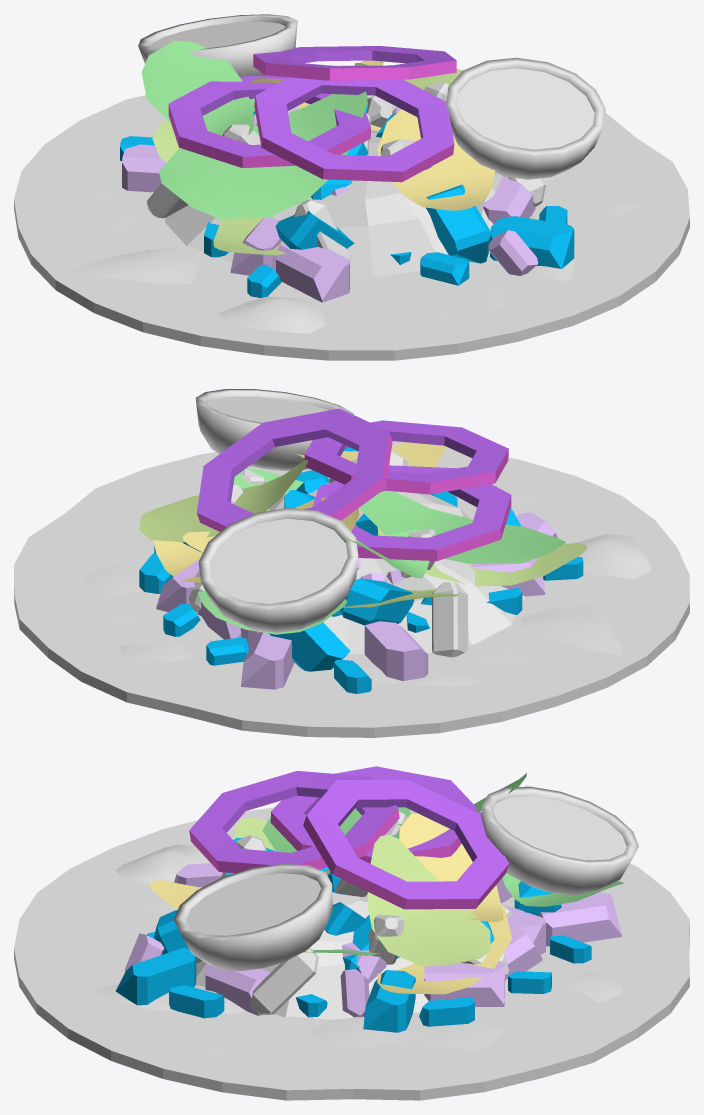
File: TortillaAssembled_V3.fbx
The picture shows the model from 3 angles, top to bottom: view 1: azimuth 30°, elevation 25°; view 2: azimuth 150°, elevation 25°; view 3: azimuth 270°, elevation 25°; orthographic projection.
Parts seen in each view (by area): view 1: Wrap, Salad.003, Circle.004, Shaving3, Cylinder.001, Tortilla_Charred, Shaving2, Circle.001, Skin, Circle.002, Liquid, Cube (+5 smaller); view 2: Wrap, Salad.003, Shaving0, Tortilla_Charred, Circle.002, Circle.004, Skin.001, Cylinder.001, Circle.001, Liquid.002, Liquid.003, Skin (+7 smaller); view 3: Wrap, Salad.003, Circle.002, Shaving4, Tortilla_Charred, Circle.004, Shaving3, Skin, Skin.001, Shaving0, Cube, Circle.001 (+7 smaller).
Part boxes in pixels (left/top/right/bottom): Wrap: left=14, top=65, right=689, bottom=360; Salad.003: left=141, top=40, right=495, bottom=255; Circle.004: left=254, top=77, right=454, bottom=182; Shaving3: left=420, top=176, right=574, bottom=285; Cylinder.001: left=165, top=130, right=503, bottom=277; Tortilla_Charred: left=69, top=105, right=639, bottom=333; Shaving2: left=204, top=179, right=411, bottom=302; Circle.001: left=168, top=75, right=370, bottom=168; Skin: left=446, top=57, right=605, bottom=179; Circle.002: left=253, top=46, right=456, bottom=80; Liquid: left=456, top=68, right=594, bottom=149; Cube: left=146, top=81, right=545, bottom=258; Wrap: left=14, top=441, right=689, bottom=737; Salad.003: left=139, top=442, right=586, bottom=634; Shaving0: left=206, top=573, right=429, bottom=693; Tortilla_Charred: left=82, top=479, right=650, bottom=686; Circle.002: left=196, top=408, right=392, bottom=531; Circle.004: left=304, top=420, right=508, bottom=494; Skin.001: left=198, top=508, right=358, bottom=632; Cylinder.001: left=269, top=489, right=525, bottom=653; Circle.001: left=312, top=465, right=511, bottom=561; Liquid.002: left=210, top=518, right=347, bottom=603; Liquid.003: left=227, top=528, right=330, bottom=595; Skin: left=195, top=389, right=353, bottom=470; Wrap: left=14, top=807, right=689, bottom=1100; Salad.003: left=149, top=773, right=624, bottom=994; Circle.002: left=303, top=779, right=509, bottom=909; Shaving4: left=340, top=915, right=551, bottom=1032; Tortilla_Charred: left=71, top=844, right=623, bottom=1057; Circle.004: left=189, top=771, right=399, bottom=873; Shaving3: left=115, top=910, right=327, bottom=1018; Skin: left=174, top=863, right=332, bottom=970; Skin.001: left=481, top=786, right=638, bottom=895; Shaving0: left=496, top=878, right=621, bottom=963; Cube: left=196, top=811, right=513, bottom=1015; Circle.001: left=270, top=766, right=481, bottom=863.
Bounding box in the file's own units: 0.5939 × 0.5912 × 0.1715.
